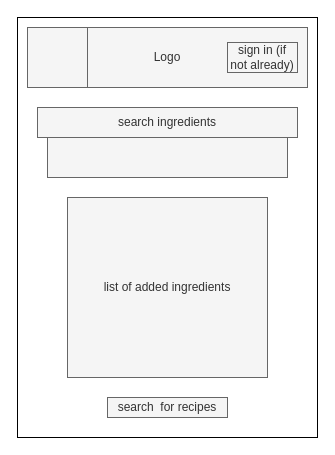
Some shapes in this 335 by 455 pixel diagram are drawn without their labels. Here are the shapes that lost their labels. From the top down, the box of each, then its label:
(26, 26, 88, 88): hamburger menu
(46, 136, 288, 178): search results
